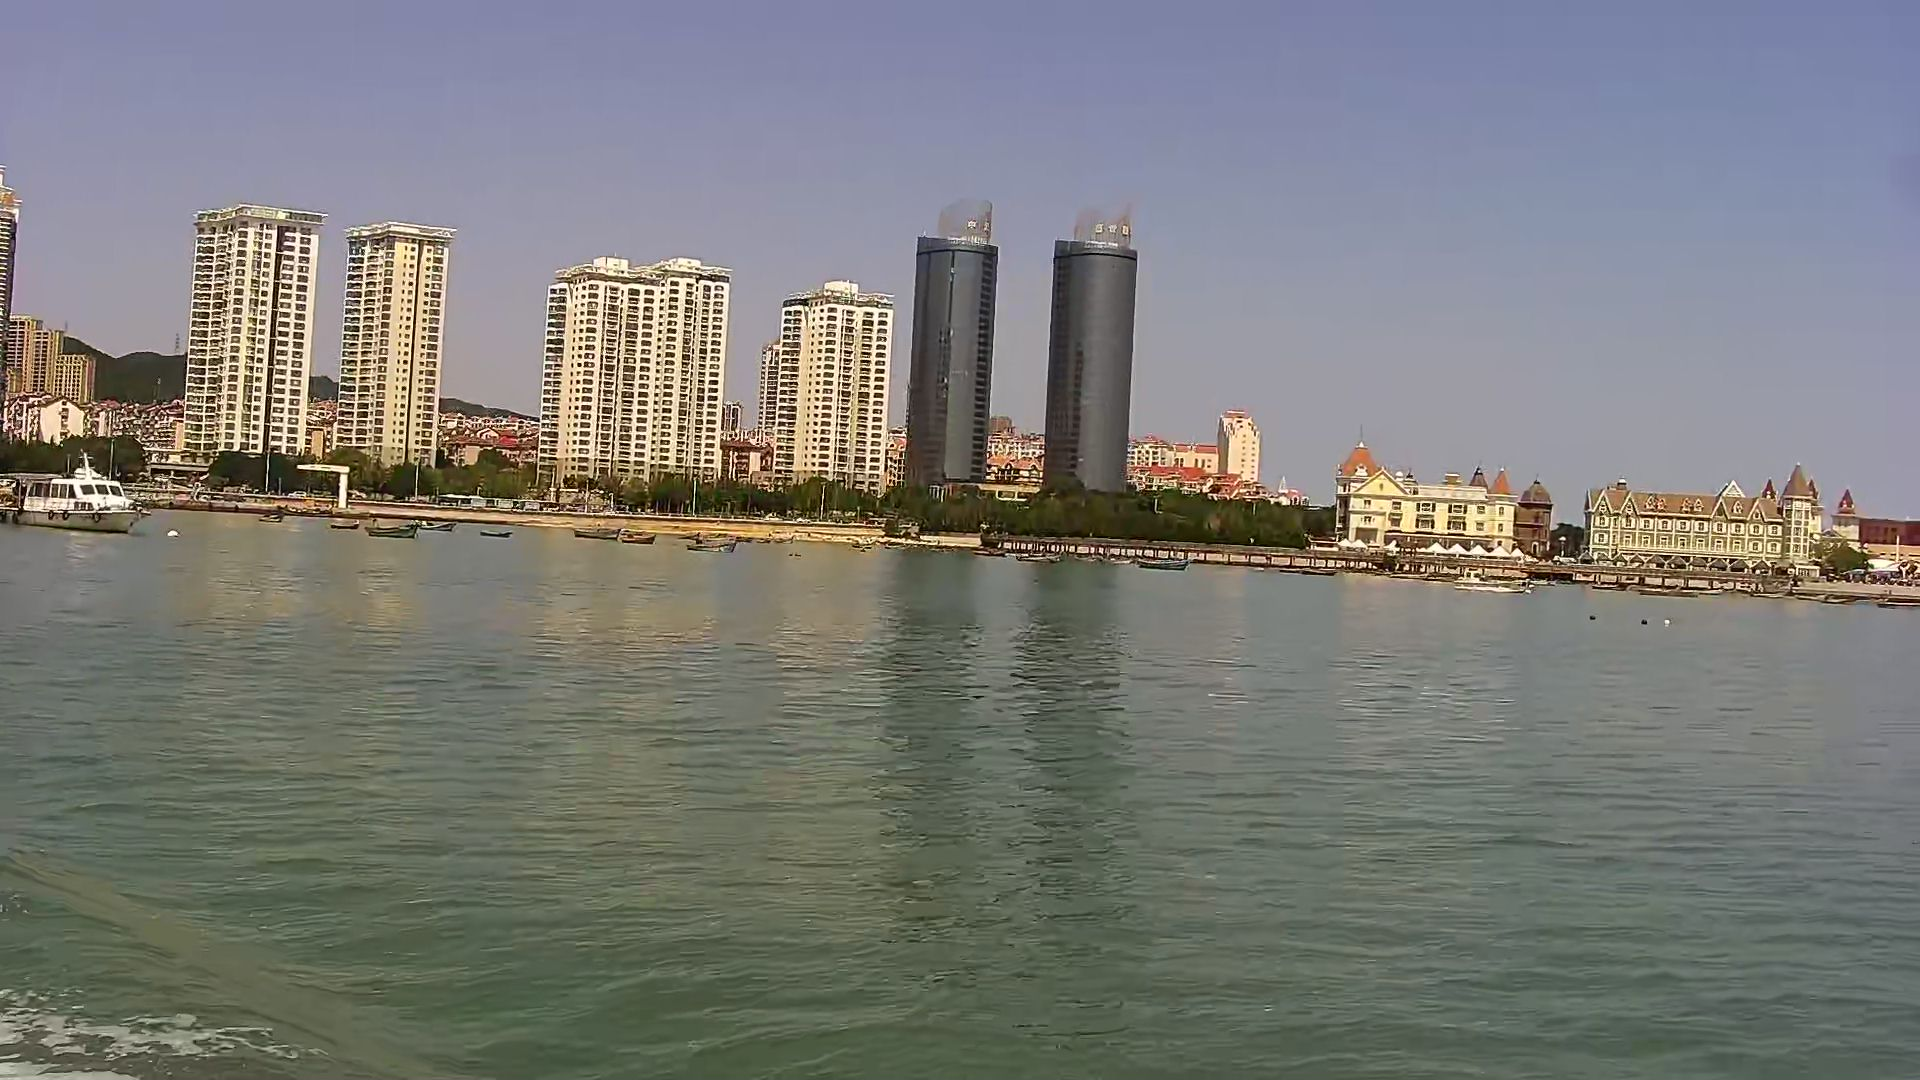ball: (166, 527, 181, 541)
boat: (359, 520, 421, 543), (682, 534, 738, 554)
ship: (1, 450, 145, 539)
